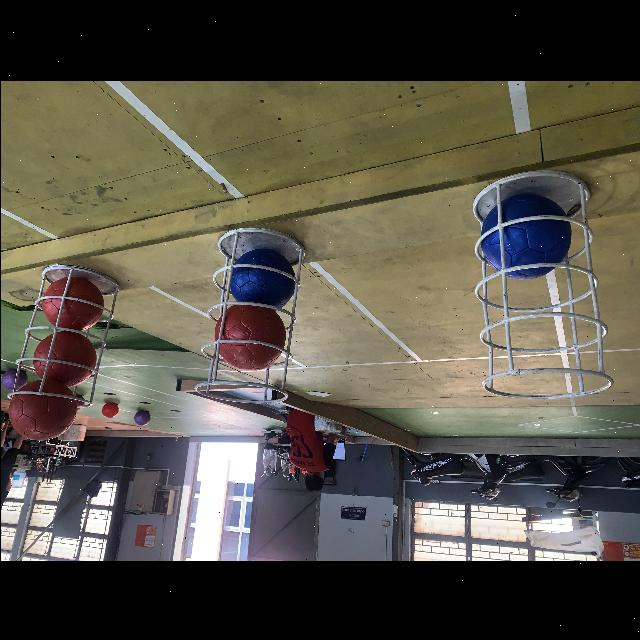B: (479, 193, 571, 279), (228, 250, 296, 310)
R: (212, 304, 284, 370), (8, 380, 76, 440), (32, 330, 96, 386), (42, 276, 104, 328)
